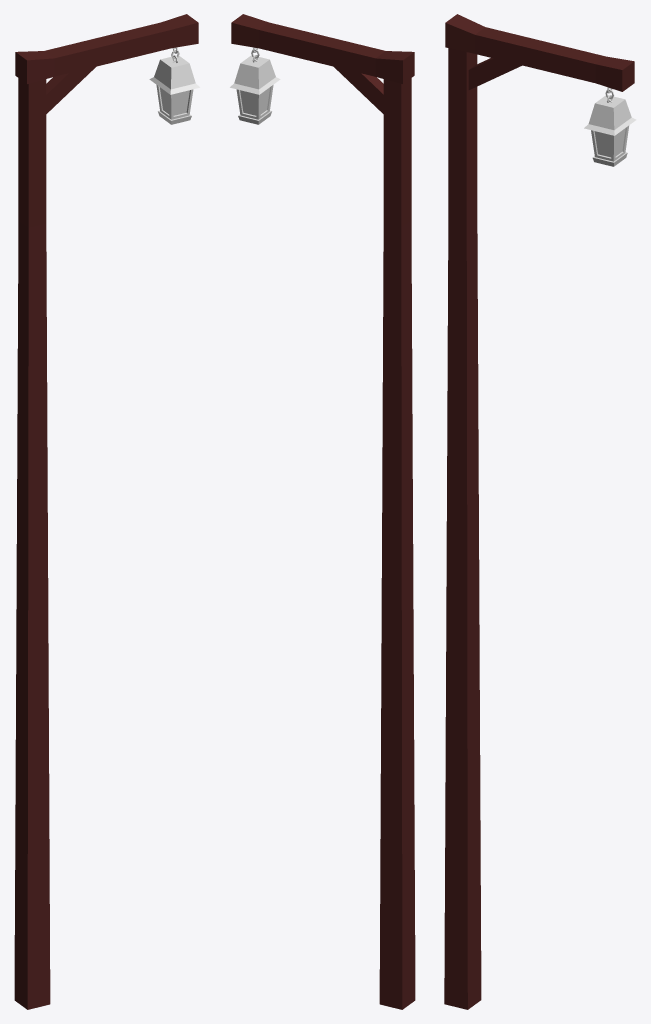
The model's file is Poste.fbx.
3 views of the same model, side by side, from view 1: azimuth 30°, elevation 25°; view 2: azimuth 150°, elevation 25°; view 3: azimuth 330°, elevation 25° (orthographic). The views are drawn at different scales.
Visible parts, largest first — view 1: low_poly_post, low_poly_lamp; view 2: low_poly_post, low_poly_lamp; view 3: low_poly_post, low_poly_lamp.
Boxes of the visible parts, box(x1,y1,x2,y2) form: low_poly_post: box(14, 14, 198, 1009); low_poly_lamp: box(149, 55, 199, 124); low_poly_post: box(231, 14, 415, 1009); low_poly_lamp: box(230, 55, 280, 124); low_poly_post: box(444, 14, 634, 1009); low_poly_lamp: box(584, 95, 636, 166).
Size of the model in its own units: 455 by 2403 by 97.48.
